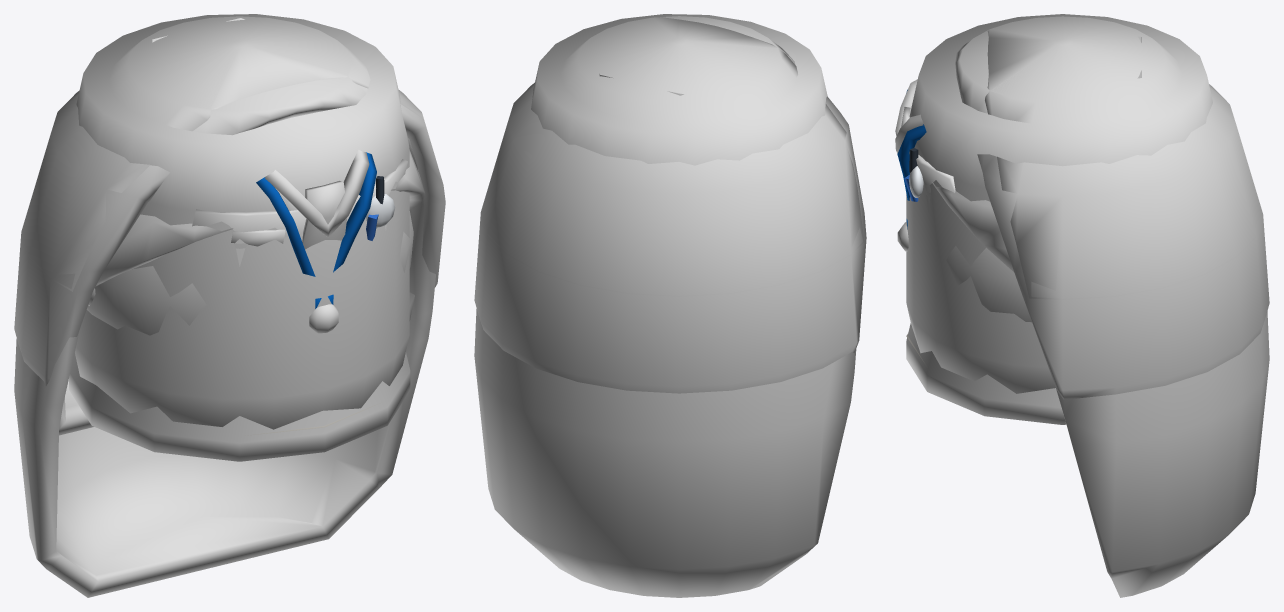
File: people_kit.glb
3 views of the same model, side by side, from view 1: azimuth 30°, elevation 25°; view 2: azimuth 150°, elevation 25°; view 3: azimuth 270°, elevation 25° (orthographic). The views are drawn at different scales.
Visible parts, largest first — view 1: band, hair_long, hair_bob, sleeve, head, hair_cap, lanyard, collar, apron, tie, fob, badge; view 2: hair_bob, hair_long, band; view 3: hair_bob, hair_long, band, sleeve, head, hair_cap, collar, lanyard, apron, fob.
Boxes of the visible parts, x1=… form: band: x1=75, y1=14, x2=409, y2=429; hair_long: x1=14, y1=45, x2=435, y2=597; hair_bob: x1=14, y1=16, x2=445, y2=435; sleeve: x1=69, y1=224, x2=410, y2=461; head: x1=86, y1=211, x2=413, y2=335; hair_cap: x1=95, y1=150, x2=424, y2=286; lanyard: x1=256, y1=152, x2=376, y2=308; collar: x1=264, y1=149, x2=369, y2=237; apron: x1=192, y1=159, x2=407, y2=236; tie: x1=302, y1=181, x2=347, y2=249; fob: x1=366, y1=176, x2=395, y2=227; badge: x1=231, y1=229, x2=285, y2=246; hair_bob: x1=474, y1=16, x2=866, y2=393; hair_long: x1=474, y1=17, x2=864, y2=597; band: x1=531, y1=14, x2=827, y2=165; hair_bob: x1=955, y1=16, x2=1269, y2=399; hair_long: x1=985, y1=23, x2=1269, y2=597; band: x1=906, y1=14, x2=1212, y2=393; sleeve: x1=906, y1=184, x2=1066, y2=424; head: x1=897, y1=222, x2=1031, y2=322; hair_cap: x1=932, y1=182, x2=1013, y2=271; collar: x1=895, y1=79, x2=923, y2=153; lanyard: x1=897, y1=89, x2=926, y2=229; apron: x1=909, y1=152, x2=955, y2=192; fob: x1=909, y1=148, x2=923, y2=197.
Size of the model in its own units: 1.32 by 1.77 by 1.19.
